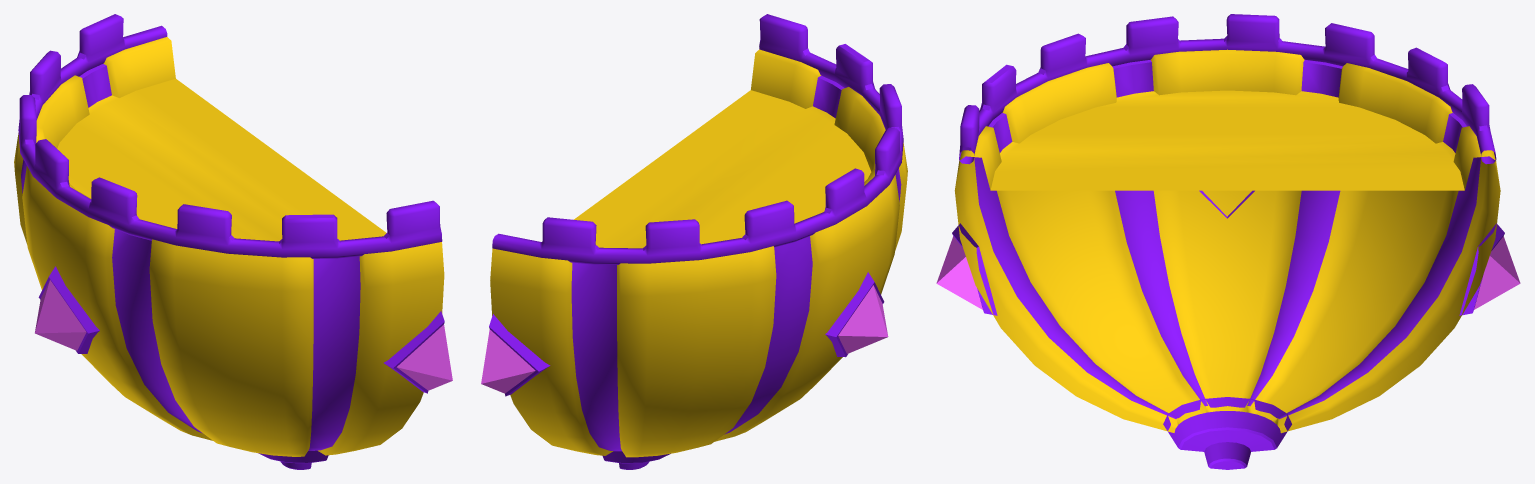
File: BalconyHalf.fbx
The picture shows the model from 3 angles, left to right: view 1: azimuth 30°, elevation 25°; view 2: azimuth 150°, elevation 25°; view 3: azimuth 270°, elevation 25°; orthographic projection. The views are drawn at different scales.
Parts seen in each view (by area): view 1: BalconyHalf_LOD0; view 2: BalconyHalf_LOD0; view 3: BalconyHalf_LOD0.
Boxes of the visible parts, left/top/right/bottom form: BalconyHalf_LOD0: left=14, top=14, right=452, bottom=469; BalconyHalf_LOD0: left=481, top=14, right=907, bottom=469; BalconyHalf_LOD0: left=936, top=14, right=1520, bottom=469.
Size of what is drawn, in the model's own units: 253 by 328 by 504.
